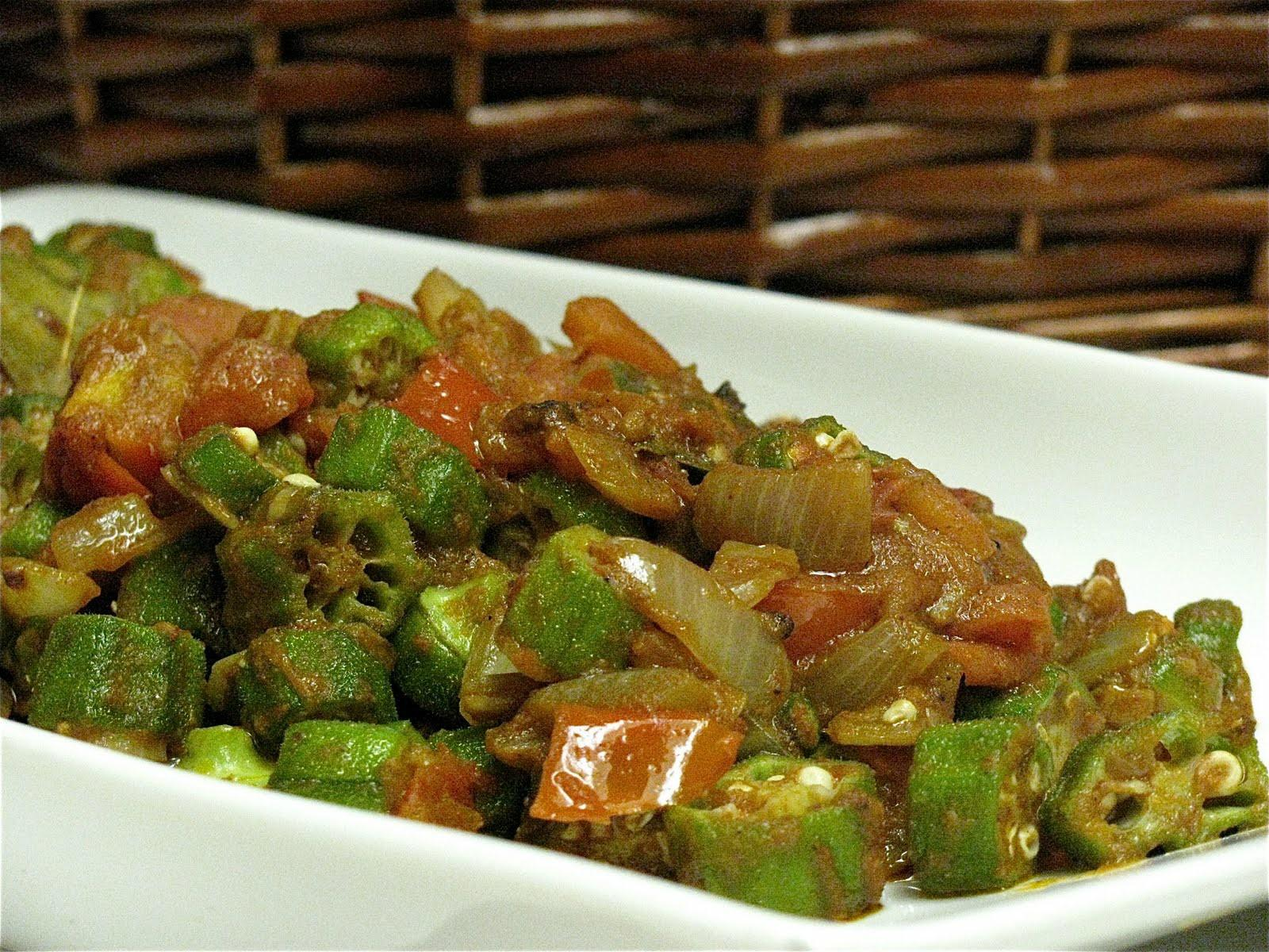BhindiMasala: (1, 219, 1269, 922)
